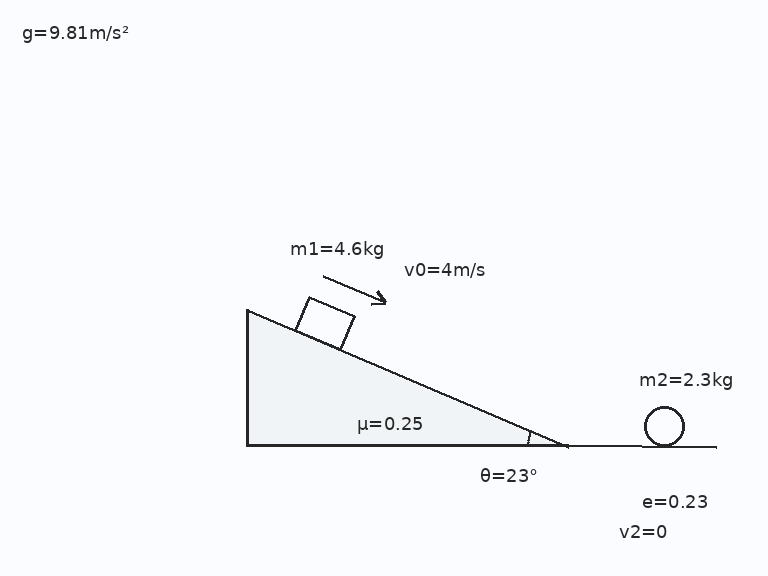ball: (642, 404, 686, 448)
block: (293, 295, 356, 351)
ramp: (245, 308, 570, 448)
